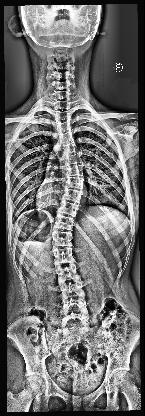Vertebrae: (60, 281, 86, 301), (55, 264, 81, 282), (52, 248, 76, 266), (63, 302, 90, 316), (52, 230, 74, 247), (54, 215, 77, 231), (58, 201, 78, 217), (66, 176, 84, 190), (64, 189, 82, 203), (55, 110, 71, 122), (58, 132, 74, 144), (66, 152, 82, 164), (67, 164, 83, 176), (64, 142, 77, 156), (54, 101, 72, 111), (54, 91, 70, 101), (56, 122, 72, 132)
